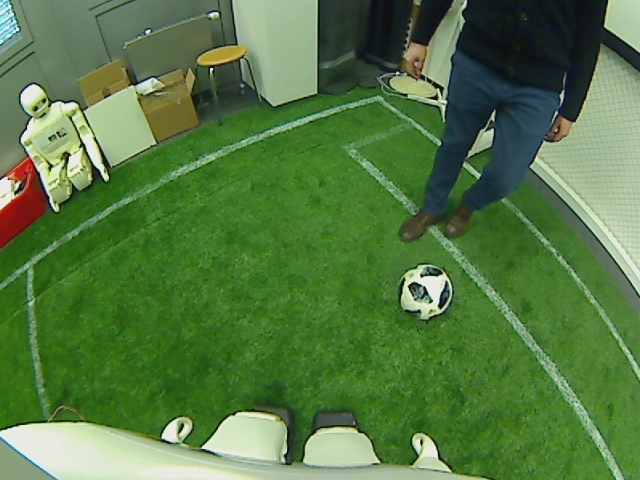ball: (397, 262, 453, 321)
